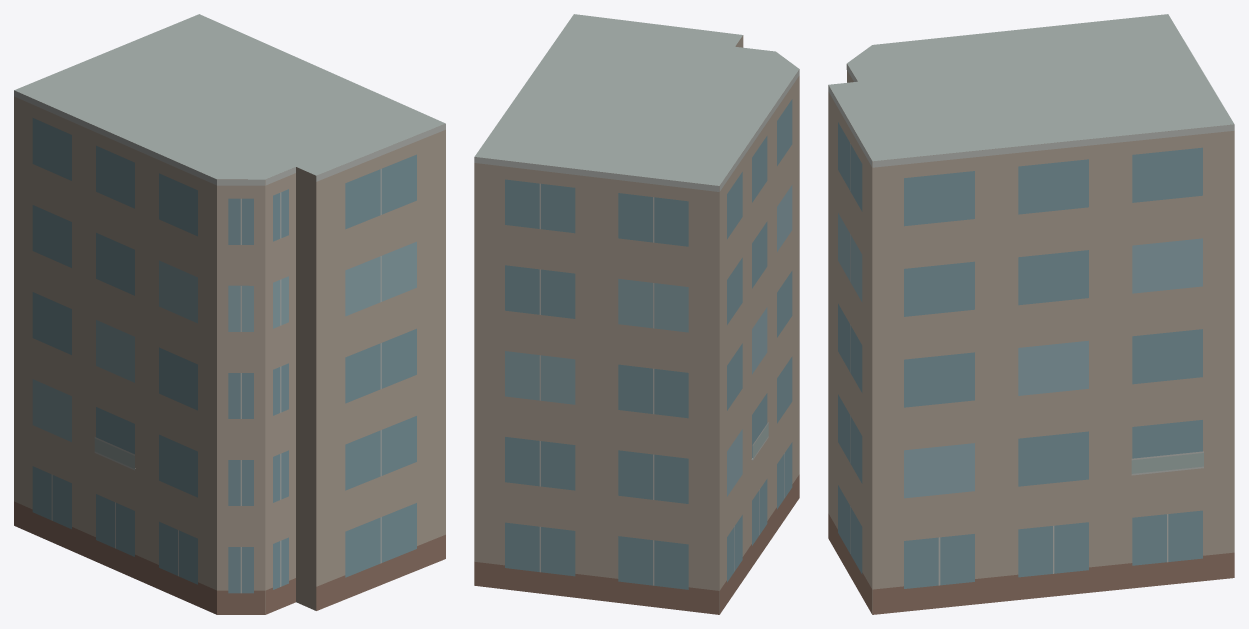
The model's file is survey-upis-32651077.glb.
3 views of the same model, side by side, from view 1: azimuth 30°, elevation 25°; view 2: azimuth 150°, elevation 25°; view 3: azimuth 270°, elevation 25° (orthographic). The views are drawn at different scales.
Visible parts, largest first — view 1: survey-upis-32651077.tmp; view 2: survey-upis-32651077.tmp; view 3: survey-upis-32651077.tmp.
Boxes of the visible parts, x1=… form: survey-upis-32651077.tmp: x1=14, y1=14, x2=445, y2=614; survey-upis-32651077.tmp: x1=474, y1=14, x2=799, y2=614; survey-upis-32651077.tmp: x1=828, y1=14, x2=1234, y2=614.
Size of the model in its own units: 12.02 by 17.24 by 14.
